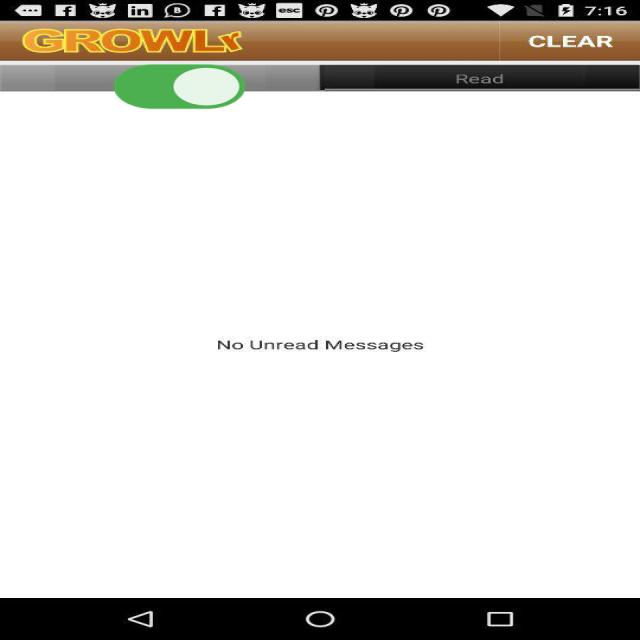social proof: (108, 48, 251, 130)
